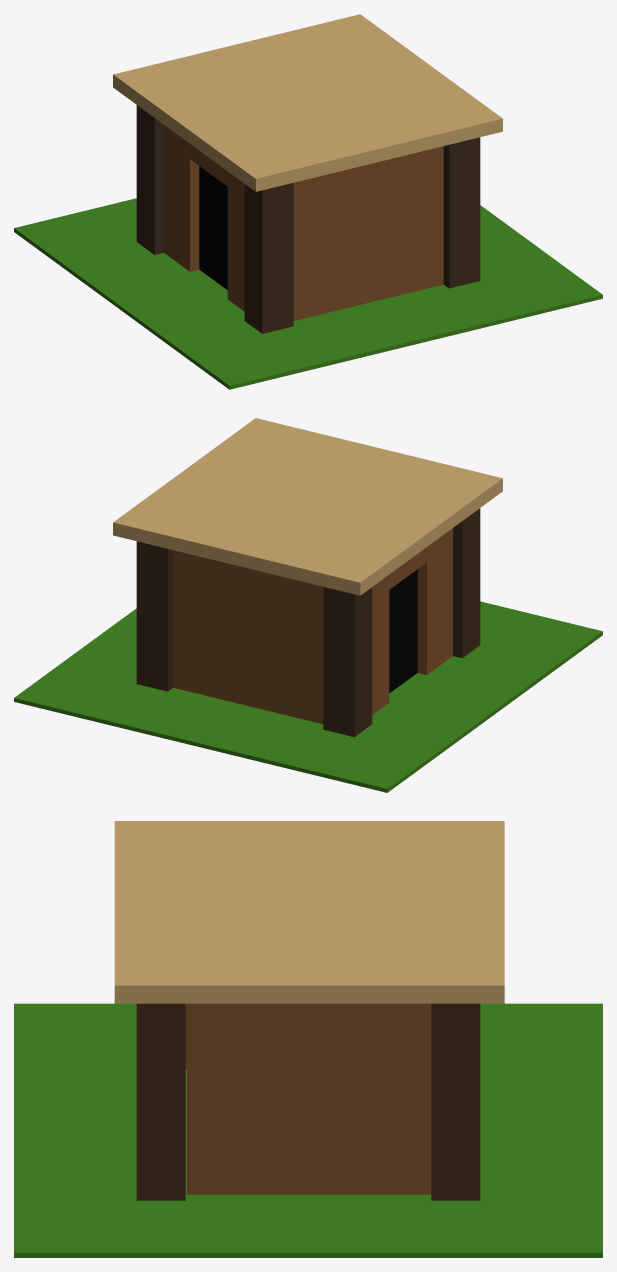
The model's file is lvl2.glb.
3 views of the same model, one above another, from view 1: azimuth 30°, elevation 25°; view 2: azimuth 150°, elevation 25°; view 3: azimuth 270°, elevation 25° (orthographic). The views are drawn at different scales.
Parts seen in each view (by area): view 1: Cube.079, Plane.006, Cube.082, Cube.083, Cube.085, Cube.087, Cube.086, Cube.077; view 2: Cube.079, Plane.006, Cube.081, Cube.083, Cube.086, Cube.084, Cube.085, Cube.077; view 3: Plane.006, Cube.079, Cube.080, Cube.084, Cube.087.
Part boxes in pixels (x1,y1,x2,y2): Cube.079: [113, 14, 502, 191]; Plane.006: [14, 198, 602, 389]; Cube.082: [293, 146, 443, 320]; Cube.083: [164, 125, 244, 311]; Cube.085: [244, 183, 293, 333]; Cube.087: [443, 137, 480, 288]; Cube.086: [136, 105, 163, 254]; Cube.077: [199, 166, 227, 289]; Cube.079: [113, 418, 502, 595]; Plane.006: [14, 601, 602, 792]; Cube.081: [173, 550, 323, 724]; Cube.083: [372, 528, 452, 714]; Cube.086: [323, 587, 372, 737]; Cube.084: [136, 541, 173, 691]; Cube.085: [453, 508, 480, 658]; Cube.077: [389, 569, 417, 693]; Plane.006: [14, 1003, 602, 1257]; Cube.079: [114, 821, 504, 1003]; Cube.080: [187, 1003, 431, 1194]; Cube.084: [431, 1003, 480, 1200]; Cube.087: [136, 1003, 185, 1200].
Bounding box in the file's own units: 6 × 2.59 × 6.
